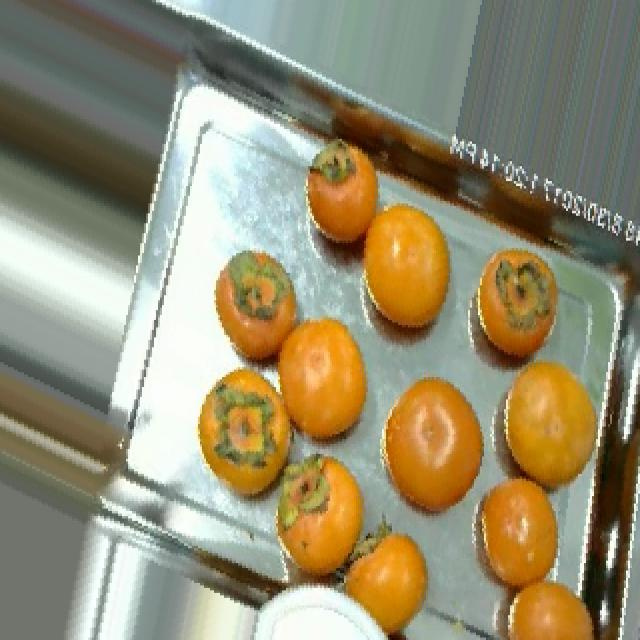Fruit: (344, 181, 476, 365), (366, 360, 492, 538), (262, 300, 388, 464), (258, 437, 378, 598), (184, 359, 304, 518), (488, 342, 600, 508), (458, 236, 576, 390), (460, 464, 576, 610), (202, 238, 312, 380), (292, 131, 390, 273), (330, 518, 444, 640)
